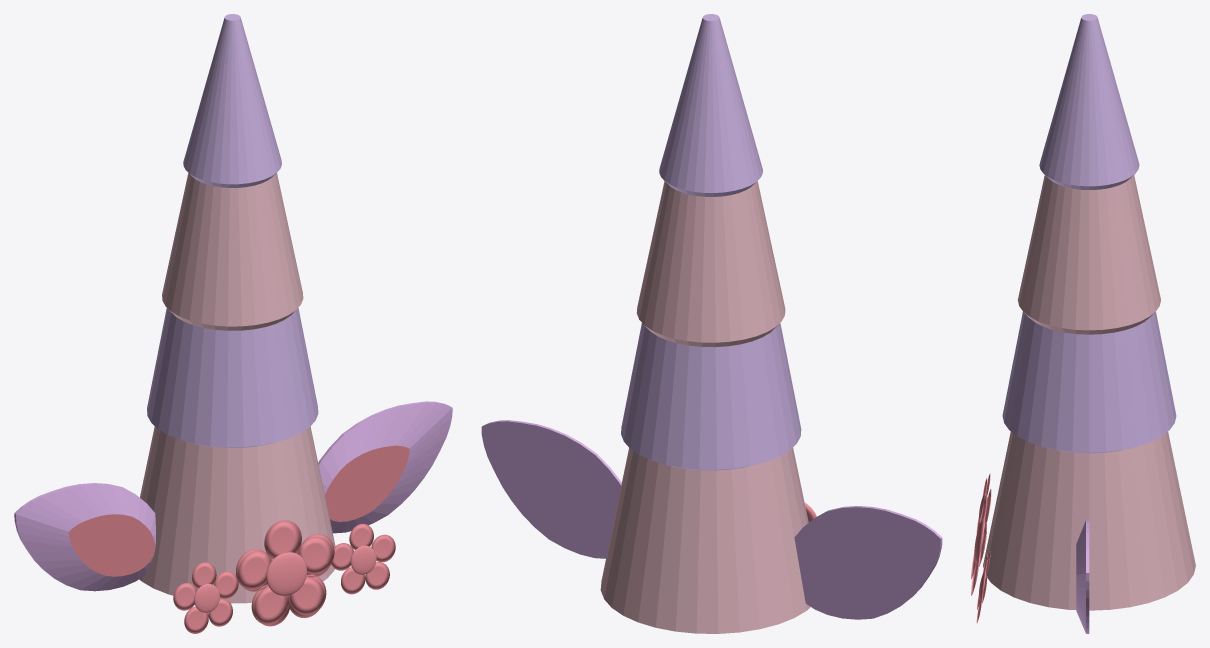
The model's file is 유니콘합.fbx.
The picture shows the model from 3 angles, left to right: view 1: azimuth 30°, elevation 25°; view 2: azimuth 150°, elevation 25°; view 3: azimuth 270°, elevation 25°; orthographic projection. The views are drawn at different scales.
Parts seen in each view (by area): view 1: Circle, Circle.001, Circle.002; view 2: Circle, Circle.001; view 3: Circle, Circle.002, Circle.001.
Boxes of the visible parts, left/top/right/bottom form: Circle: left=139, top=14, right=335, bottom=603; Circle.001: left=14, top=401, right=452, bottom=591; Circle.002: left=173, top=520, right=395, bottom=633; Circle: left=600, top=14, right=810, bottom=633; Circle.001: left=481, top=420, right=942, bottom=619; Circle: left=983, top=14, right=1195, bottom=610; Circle.002: left=971, top=473, right=991, bottom=622; Circle.001: left=1076, top=520, right=1089, bottom=633.
Bounding box in the file's own units: 111 × 137 × 49.09.
